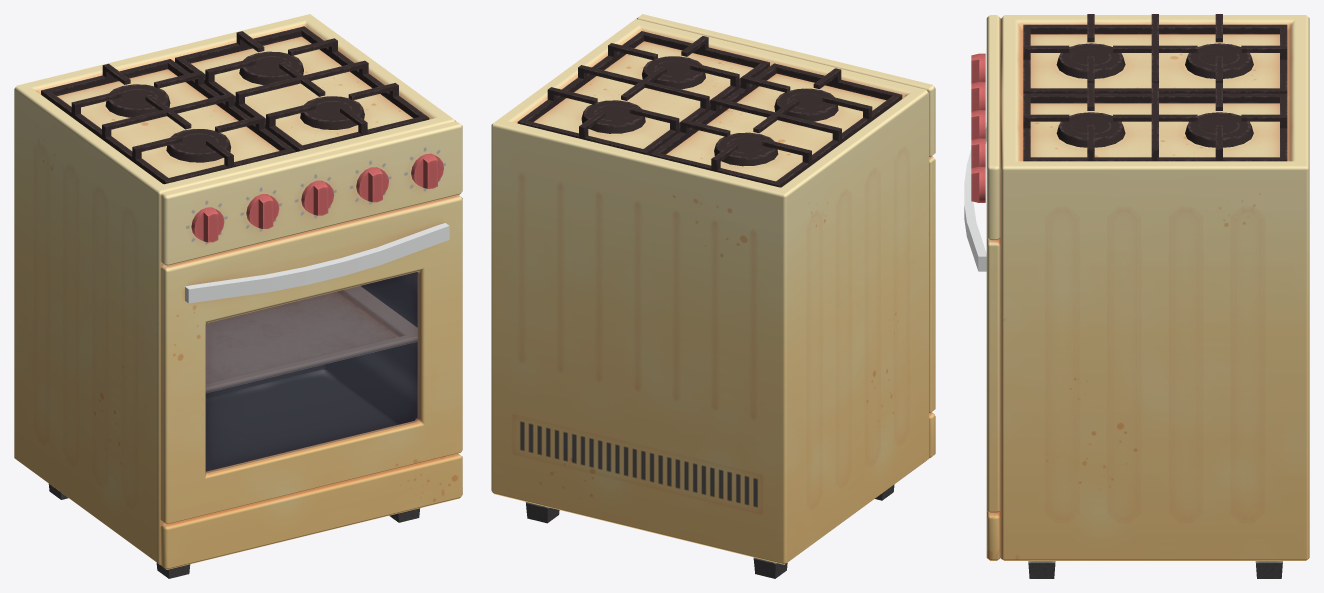
The model's file is stylized_kitchen_stove.glb.
3 renders of one model, left to right at view 1: azimuth 30°, elevation 25°; view 2: azimuth 150°, elevation 25°; view 3: azimuth 270°, elevation 25°, orthographic. The views are drawn at different scales.
Visible parts, largest first — view 1: Stove_base.003, Stove_door.003, Stove_glass.002, Stove_frontTop.001, Stove_grate.002, Stove_frontBtm.001, Stove_baingPan.002, Stove_heaters.001, Stove_handle.002, Stove_switches.002, Stove_legs.002; view 2: Stove_base.003, Stove_grate.002, Stove_heaters.001, Stove_frontTop.001, Stove_door.003, Stove_legs.002; view 3: Stove_base.003, Stove_grate.002, Stove_heaters.001, Stove_door.003, Stove_frontTop.001, Stove_switches.002, Stove_handle.002, Stove_legs.002, Stove_frontBtm.001.
Part boxes in pixels (x1=…): Stove_base.003: x1=14, y1=14, x2=455, y2=564; Stove_door.003: x1=160, y1=195, x2=462, y2=524; Stove_glass.002: x1=206, y1=272, x2=419, y2=472; Stove_frontTop.001: x1=160, y1=121, x2=462, y2=265; Stove_grate.002: x1=41, y1=26, x2=429, y2=184; Stove_frontBtm.001: x1=160, y1=453, x2=462, y2=569; Stove_baingPan.002: x1=205, y1=286, x2=417, y2=393; Stove_heaters.001: x1=105, y1=51, x2=364, y2=162; Stove_handle.002: x1=185, y1=223, x2=449, y2=303; Stove_switches.002: x1=191, y1=153, x2=443, y2=242; Stove_legs.002: x1=48, y1=484, x2=419, y2=578; Stove_base.003: x1=491, y1=19, x2=928, y2=564; Stove_grate.002: x1=517, y1=31, x2=902, y2=187; Stove_heaters.001: x1=581, y1=56, x2=838, y2=166; Stove_frontTop.001: x1=636, y1=14, x2=935, y2=157; Stove_door.003: x1=929, y1=156, x2=935, y2=413; Stove_legs.002: x1=525, y1=484, x2=894, y2=578; Stove_base.003: x1=1000, y1=15, x2=1309, y2=560; Stove_grate.002: x1=1023, y1=14, x2=1287, y2=161; Stove_heaters.001: x1=1056, y1=43, x2=1253, y2=147; Stove_door.003: x1=986, y1=238, x2=1000, y2=513; Stove_frontTop.001: x1=986, y1=15, x2=1000, y2=240; Stove_switches.002: x1=971, y1=53, x2=985, y2=202; Stove_handle.002: x1=964, y1=122, x2=986, y2=271; Stove_legs.002: x1=1028, y1=561, x2=1282, y2=578; Stove_frontBtm.001: x1=986, y1=511, x2=1000, y2=560.
Size of the model in its own units: 2 by 2.63 by 1.9.
1 material, 1 textured.
